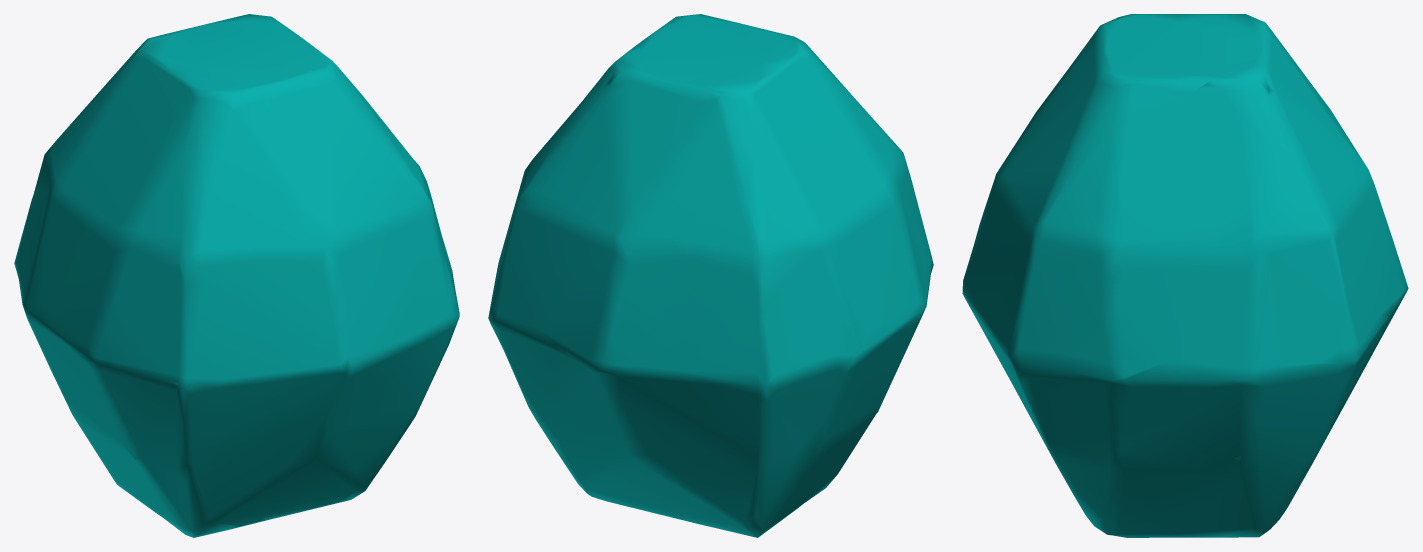
The model's file is gen3d-gemstone-lod0.glb.
3 views of the same model, side by side, from view 1: azimuth 30°, elevation 25°; view 2: azimuth 150°, elevation 25°; view 3: azimuth 270°, elevation 25° (orthographic). The views are drawn at different scales.
Visible parts, largest first — view 1: part_0; view 2: part_0; view 3: part_0.
Boxes of the visible parts, box(x1,y1,x2,y2) form: part_0: box(14, 14, 459, 537); part_0: box(488, 14, 933, 537); part_0: box(962, 14, 1408, 537).
Size of the model in its own units: 0.8685 by 1 by 0.8988.
